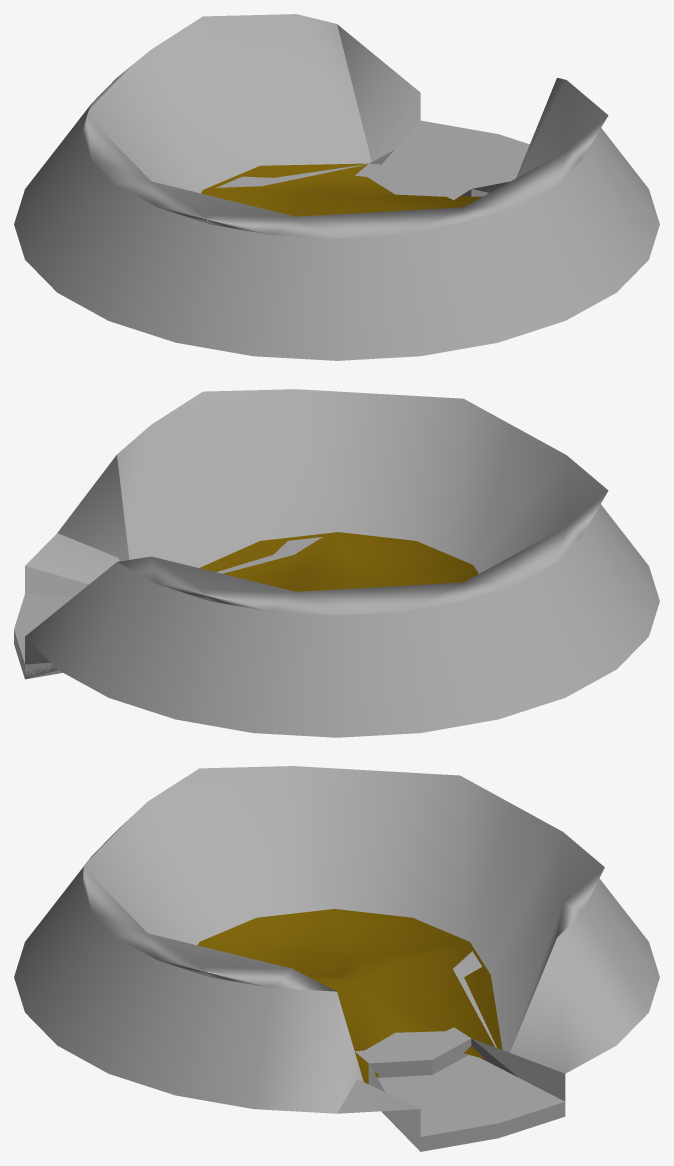
Rendered from arena test.fbx.
3 renders of one model, top to bottom at view 1: azimuth 30°, elevation 25°; view 2: azimuth 150°, elevation 25°; view 3: azimuth 270°, elevation 25°, orthographic.
Visible parts, largest first — view 1: pDisc1; view 2: pDisc1; view 3: pDisc1.
Part boxes in pixels (bbox=[...]): pDisc1: bbox=[14, 14, 659, 360]; pDisc1: bbox=[14, 389, 659, 737]; pDisc1: bbox=[14, 766, 659, 1151].
Bounding box in the file's own units: 19.96 × 5.21 × 19.96.
